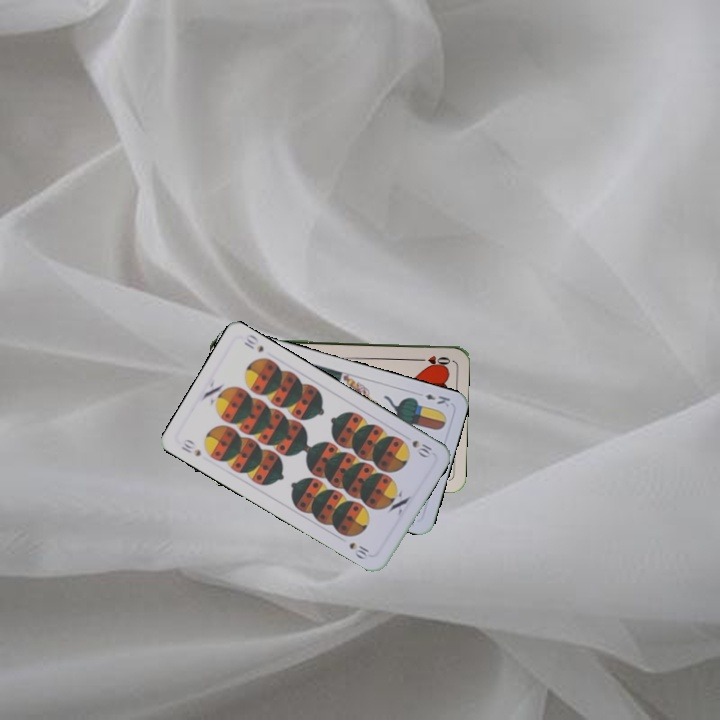EK: (421, 390, 453, 409)
HO: (413, 351, 453, 367)
S10: (408, 436, 436, 461), (177, 435, 204, 459)
